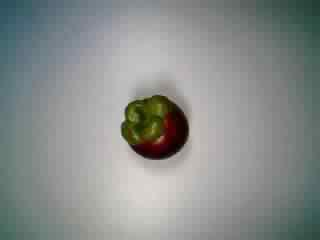mangosteen: (114, 89, 193, 167)
